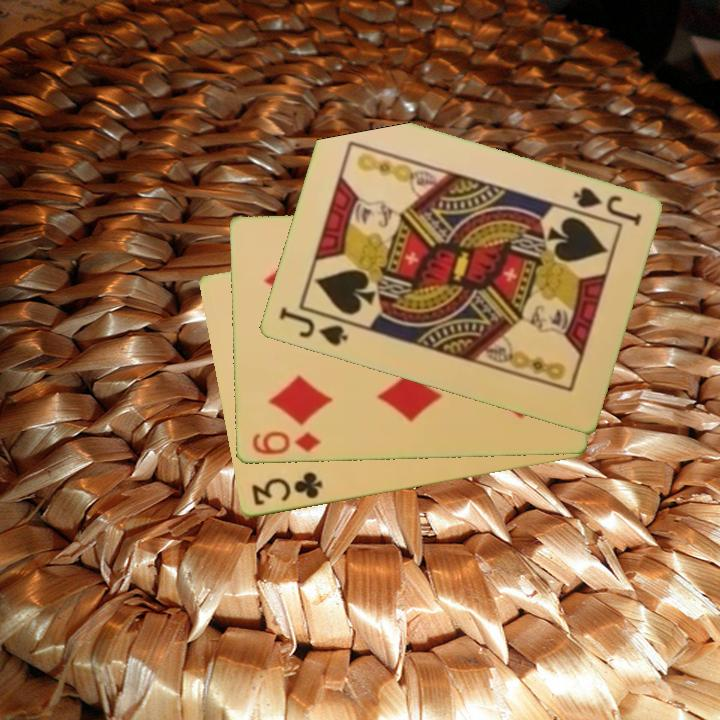3c: (247, 469, 325, 509)
6d: (248, 428, 324, 458)
Js: (275, 303, 350, 349), (569, 184, 644, 230)
